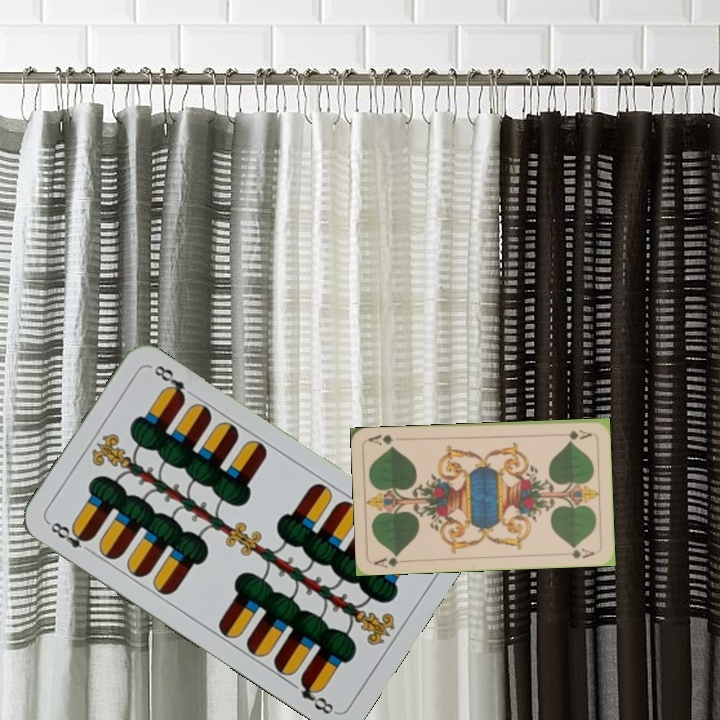E8: (44, 517, 96, 557)
GA: (370, 550, 410, 570), (554, 426, 594, 442)
